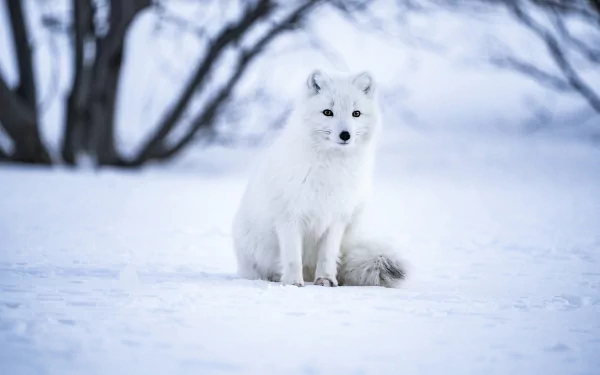arcticfox: (301, 83, 390, 164)
